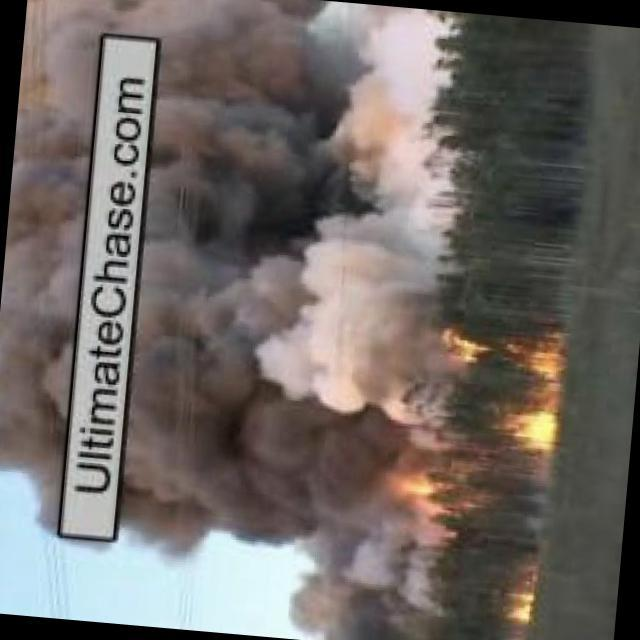Fire: (451, 328, 565, 455), (389, 468, 443, 502), (502, 577, 539, 620)
